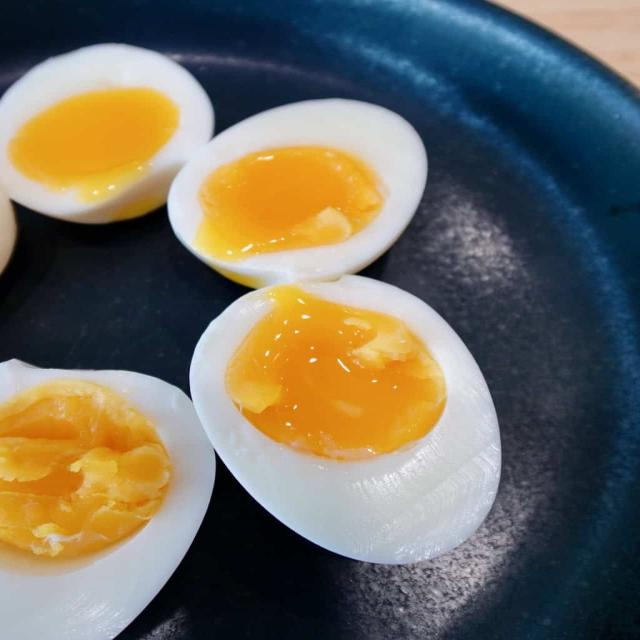boiled egg: (190, 276, 501, 563), (0, 360, 215, 639), (168, 99, 427, 287), (0, 44, 214, 223)
